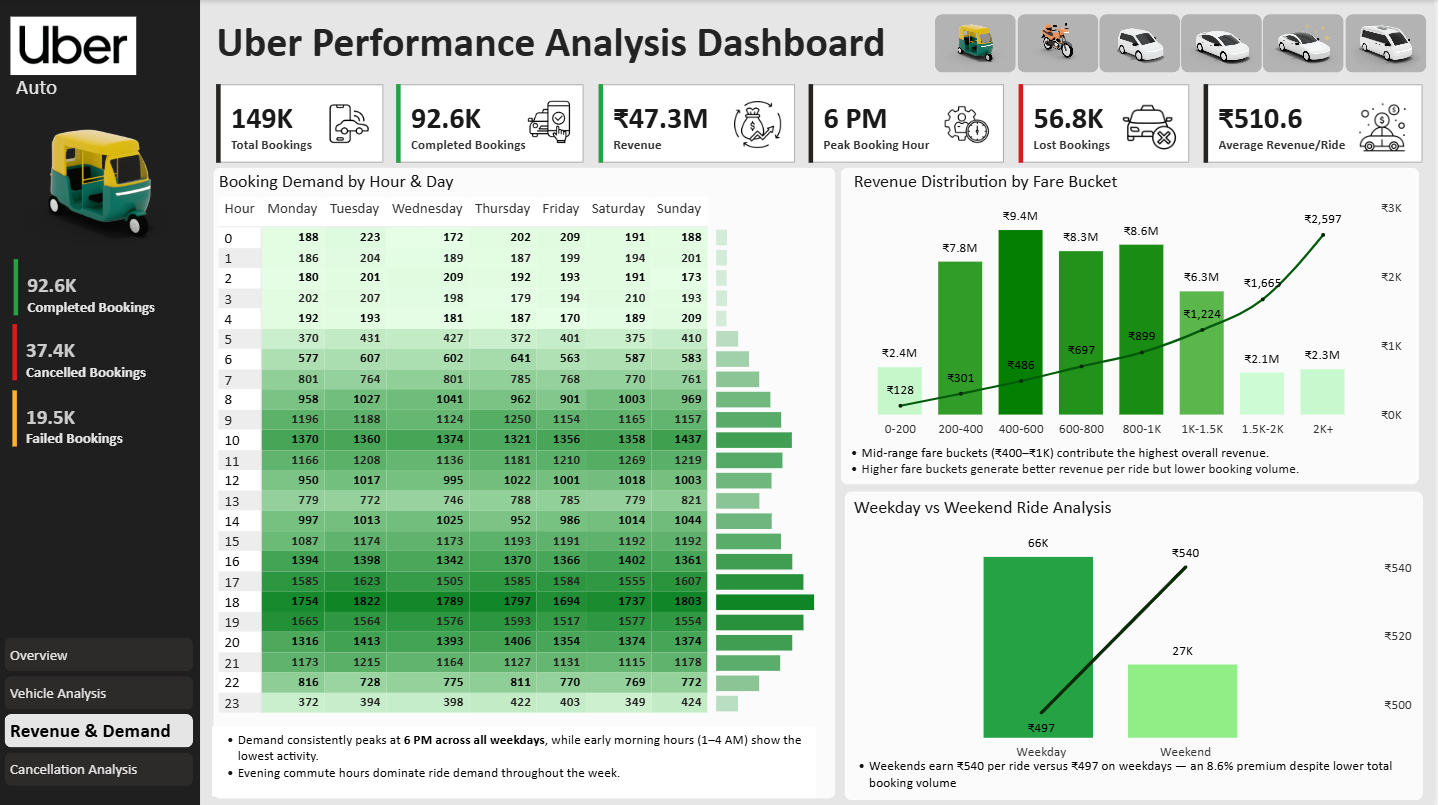

This screenshot's page, from the dashboard's own definition file:
{"tool":"powerbi","page":{"name":"Revenue & Demand","canvas":[1280,720],"ordinal":2},"visuals":[{"type":"textbox","box":[190,10,640,57],"z":0},{"type":"shape","box":[755.3,437.9,515.2,275.3],"z":0,"group":"g3"},{"type":"cardVisual","fields":{"Data":["_Measures.completed"]},"box":[351.1,70,177.3,80],"z":1000},{"type":"shape","box":[192.6,149.6,554,562.2],"z":1000,"group":"g1"},{"type":"shape","box":[751.4,149.6,515,282.3],"z":1000,"group":"g2"},{"type":"cardVisual","fields":{"Data":["_Measures.total_booking_value"]},"box":[530.6,70,185.7,80],"z":2000},{"type":"cardVisual","fields":{"Data":["_Measures.lost_booking"]},"box":[905,70,162.9,80],"z":3000},{"type":"cardVisual","fields":{"Data":["_Measures.total_bookings"]},"box":[190,70,159.2,80],"z":4000},{"type":"advancedSlicerVisual","fields":{"Values":["Veh_IMG.Vehicle Type"]},"box":[830,8,450,62.7],"z":5000},{"type":"shape","box":[0,0,181,720.2],"z":6000},{"type":"image","box":[6,9.7,124.3,61.5],"z":7000},{"type":"cardVisual","fields":{"Data":["Min(Veh_IMG.Vehicle Type)"]},"box":[0,41,156.8,59.1],"z":8000},{"type":"cardVisual","fields":{"Data":["Min(Veh_IMG.Img)"]},"box":[0,53.1,181,219.6],"z":9000},{"type":"cardVisual","fields":{"Data":["_Measures.total_bookings"]},"box":[9.7,225.6,155.6,60],"z":10000},{"type":"cardVisual","fields":{"Data":["_Measures.total_bookings"]},"box":[9,284.2,155,60],"z":11000},{"type":"cardVisual","fields":{"Data":["_Measures.total_bookings"]},"box":[9,343.3,155,60],"z":12000},{"type":"cardVisual","fields":{"Data":["_Measures.revenue_per_ride"]},"box":[1070,70,205.5,80],"z":13000},{"type":"pageNavigator","box":[6.4,567.3,168.2,135.5],"z":14000},{"type":"cardVisual","fields":{"Data":["_Measures.Peak Booking Hour"]},"box":[718.5,70,184.3,80],"z":15000},{"type":"group","id":"g1","title":"Group 1","box":[191.8,149.6,555.1,562.2],"z":16000},{"type":"lineClusteredColumnComboChart","title":"Revenue Distribution by Fare Bucket","fields":{"Y2":["_Measures.revenue_per_ride"],"Category":["Uber.Value Bucket"],"Y":["_Measures.revenue"]},"box":[757.2,151.3,498.8,247],"z":16000,"group":"g2"},{"type":"barChart","fields":{"Category":["Uber.Hour"],"Y":["_Measures.total_bookings"]},"box":[636.3,191.7,110.6,447.5],"z":16000,"group":"g1"},{"type":"group","id":"g2","title":"Group 2","box":[746.6,149.6,519.8,282.3],"z":17000},{"type":"pivotTable","title":"Booking Demand by Hour & Day","fields":{"Values":["_Measures.total_bookings"],"Columns":["calender.week_name"],"Rows":["Uber.Hour"]},"box":[192.5,151.7,481.6,523.1],"z":17000,"group":"g1"},{"type":"group","id":"g3","title":"Group 3","box":[753.7,437.9,516.8,275.3],"z":18000},{"type":"textbox","box":[746.6,390.9,503.1,41],"z":20000,"group":"g2"},{"type":"textbox","box":[191.8,646.7,537.2,62.1],"z":20000,"group":"g1"},{"type":"textbox","box":[753.7,670.4,508.8,42.2],"z":21000,"group":"g3"},{"type":"lineClusteredColumnComboChart","title":"Weekday vs Weekend Ride Analysis","fields":{"Category":["calender.day_type"],"Y":["_Measures.completed_bookings"],"Y2":["_Measures.revenue_per_ride"]},"box":[757.9,442.7,507.9,239.3],"z":22001,"group":"g3"}]}

Visuals, with their boxes in screenshot pixels (x1, y1, x2, y2), scaled from the page's 1280x720 canvas onto the 1440x805 screenshot:
textbox: detection(214, 11, 934, 75)
shape: detection(850, 490, 1429, 797)
cardVisual - _Measures.completed: detection(395, 78, 594, 168)
shape: detection(217, 167, 840, 796)
shape: detection(845, 167, 1425, 483)
cardVisual - _Measures.total_booking_value: detection(597, 78, 806, 168)
cardVisual - _Measures.lost_booking: detection(1018, 78, 1201, 168)
cardVisual - _Measures.total_bookings: detection(214, 78, 393, 168)
advancedSlicerVisual - Veh_IMG.Vehicle Type: detection(934, 9, 1439, 79)
shape: detection(0, 0, 204, 804)
image: detection(7, 11, 147, 80)
cardVisual - Min(Veh_IMG.Vehicle Type): detection(0, 46, 176, 112)
cardVisual - Min(Veh_IMG.Img): detection(0, 59, 204, 305)
cardVisual - _Measures.total_bookings: detection(11, 252, 186, 319)
cardVisual - _Measures.total_bookings: detection(10, 318, 184, 385)
cardVisual - _Measures.total_bookings: detection(10, 384, 184, 451)
cardVisual - _Measures.revenue_per_ride: detection(1204, 78, 1435, 168)
pageNavigator: detection(7, 634, 196, 786)
cardVisual - _Measures.Peak Booking Hour: detection(808, 78, 1016, 168)
"Group 1" group: detection(216, 167, 840, 796)
"Revenue Distribution by Fare Bucket" lineClusteredColumnComboChart: detection(852, 169, 1413, 445)
barChart - Uber.Hour x _Measures.total_bookings: detection(716, 214, 840, 715)
"Group 2" group: detection(840, 167, 1425, 483)
"Booking Demand by Hour & Day" pivotTable: detection(217, 170, 758, 754)
"Group 3" group: detection(848, 490, 1429, 797)
textbox: detection(840, 437, 1406, 483)
textbox: detection(216, 723, 820, 792)
textbox: detection(848, 750, 1420, 797)
"Weekday vs Weekend Ride Analysis" lineClusteredColumnComboChart: detection(853, 495, 1424, 763)
